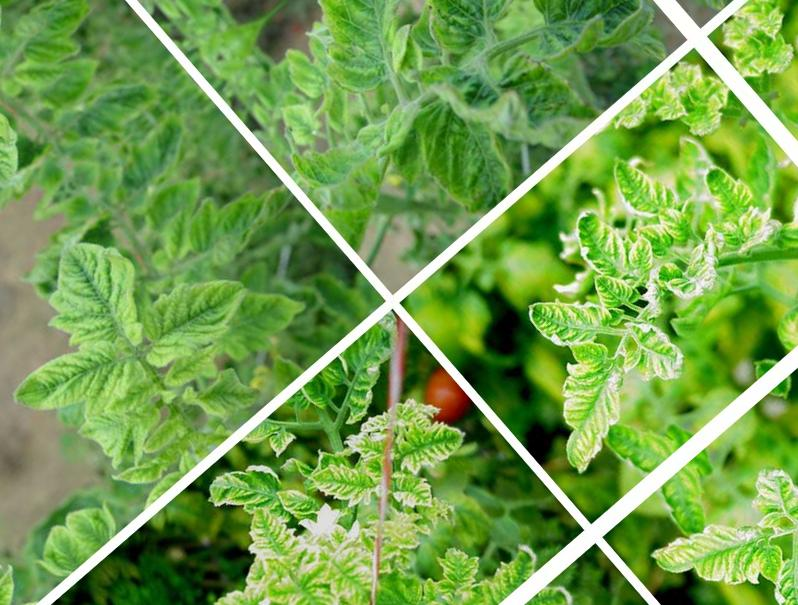Tomato mold leaf: (14, 208, 185, 379), (263, 0, 458, 127), (112, 234, 272, 387), (390, 76, 537, 227), (0, 305, 147, 454)
